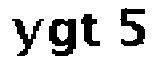5: (118, 5, 147, 51)
g: (48, 16, 78, 60)
t: (80, 9, 101, 49)
y: (9, 15, 44, 59)
